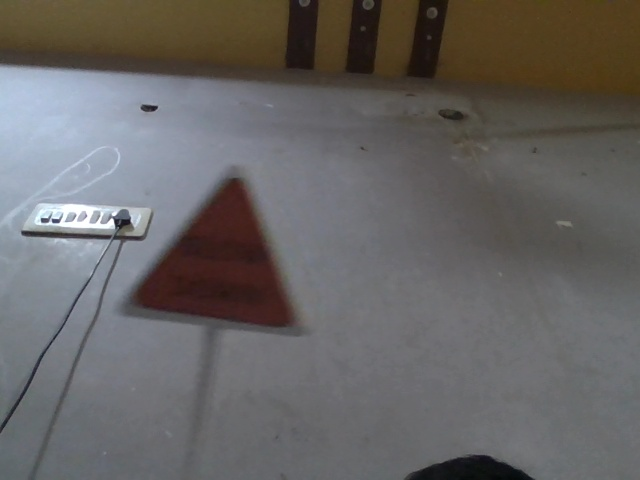slowdown: (115, 172, 294, 325)
